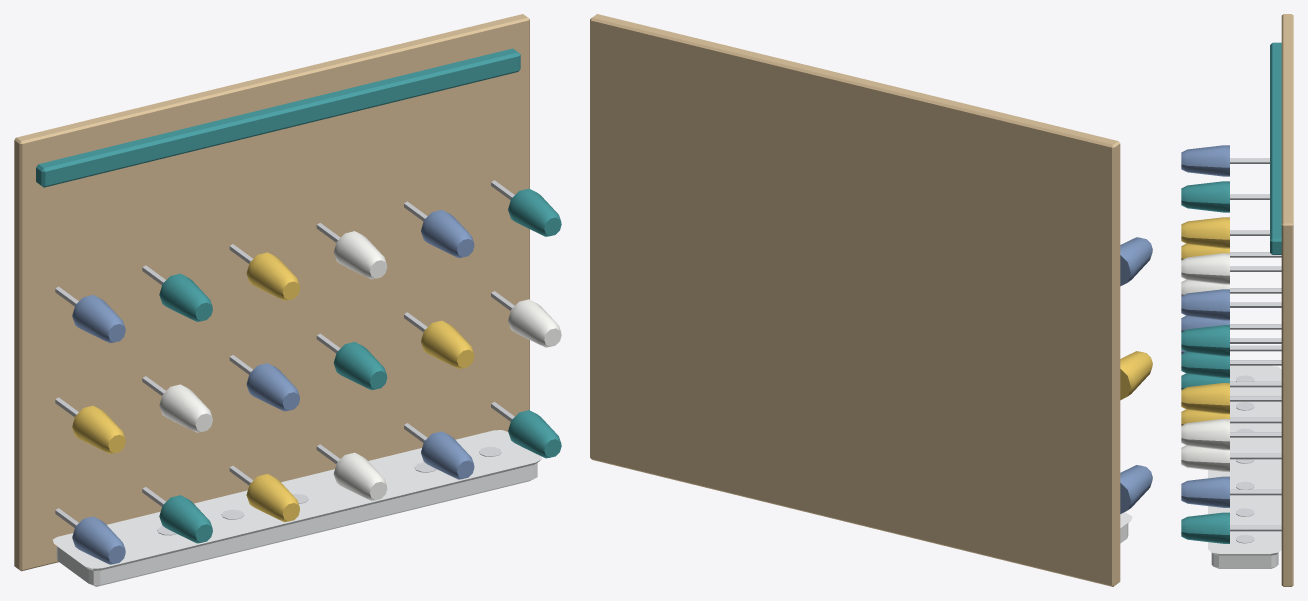
Rendered from dry-cleaners-and-alterations-shop-thread-and-bobbin-ra-ac516fae__34973.glb.
The picture shows the model from 3 angles, left to right: view 1: azimuth 30°, elevation 25°; view 2: azimuth 150°, elevation 25°; view 3: azimuth 270°, elevation 25°; orthographic projection. The views are drawn at different scales.
Visible parts, largest first — view 1: thread-and-bobbin-rack; view 2: thread-and-bobbin-rack; view 3: thread-and-bobbin-rack.
Part boxes in pixels (bbox=[...]): thread-and-bobbin-rack: bbox=[14, 14, 561, 586]; thread-and-bobbin-rack: bbox=[590, 14, 1152, 586]; thread-and-bobbin-rack: bbox=[1181, 14, 1293, 586].
Bounding box in the file's own units: 0.82 × 0.66 × 0.185.
